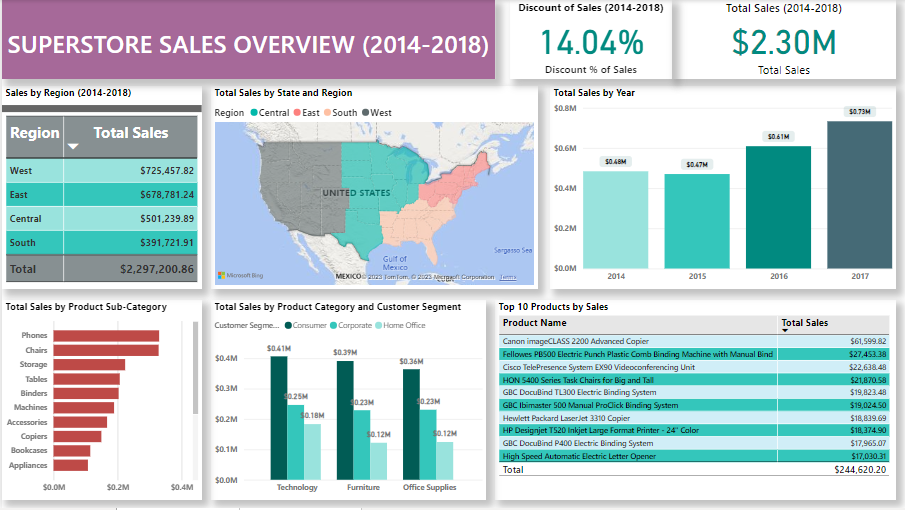

This screenshot's page, from the dashboard's own definition file:
{"tool":"powerbi","page":{"name":"Page 1","canvas":[1280,720],"ordinal":0},"visuals":[{"type":"shape","box":[0,0,698.7,112],"z":0},{"type":"tableEx","title":"Sales by Region (2014-2018)","fields":{"Values":["Orders.Region","Orders.Total Sales"]},"box":[0,121.9,283.5,287.7],"z":1000},{"type":"columnChart","fields":{"Category":["Dates.Year"],"Y":["Orders.Total Sales"]},"box":[776.7,121.9,490.4,287.7],"z":2000},{"type":"filledMap","fields":{"Category":["Orders.Region Hierarchy.Region","Orders.Region Hierarchy.Country","Orders.Region Hierarchy.State","Orders.Region Hierarchy.City","Orders.Region Hierarchy.Postal Code"],"Series":["Orders.Region Hierarchy.Region"]},"box":[296.2,121.9,463.5,287.7],"z":3000},{"type":"card","title":"Total Sales (2014-2018)","fields":{"Values":["Orders.Total Sales"]},"box":[949.6,0,317.5,112],"z":4000},{"type":"tableEx","title":"Top 10 Products by Sales","fields":{"Values":["Orders.Product Name","Orders.Total Sales"]},"box":[698.7,425.2,568.3,283.5],"z":5000},{"type":"clusteredColumnChart","fields":{"Category":["Orders.Product Category"],"Y":["Orders.Total Sales"],"Series":["Orders.Customer Segment"]},"box":[296.2,425.2,389.8,283.5],"z":6000},{"type":"barChart","fields":{"Category":["Orders.Product Sub-Category"],"Y":["Orders.Total Sales"]},"box":[0,425.2,283.5,283.5],"z":7000},{"type":"card","title":"Discount of Sales (2014-2018)","fields":{"Values":["Orders.Discount Percentage of Sales"]},"box":[720,0,229.6,112],"z":8000}]}

Visuals, with their boxes in screenshot pixels (x1, y1, x2, y2), scaled from the page's 1280x720 canvas onto the 905x510 screenshot:
shape: box(0, 0, 494, 79)
"Sales by Region (2014-2018)" tableEx: box(0, 86, 200, 290)
columnChart - Dates.Year x Orders.Total Sales: box(549, 86, 896, 290)
filledMap - Orders.Region Hierarchy.Region x Orders.Region Hierarchy.Country: box(209, 86, 537, 290)
"Total Sales (2014-2018)" card: box(671, 0, 896, 79)
"Top 10 Products by Sales" tableEx: box(494, 301, 896, 502)
clusteredColumnChart - Orders.Product Category x Orders.Total Sales: box(209, 301, 485, 502)
barChart - Orders.Product Sub-Category x Orders.Total Sales: box(0, 301, 200, 502)
"Discount of Sales (2014-2018)" card: box(509, 0, 671, 79)
